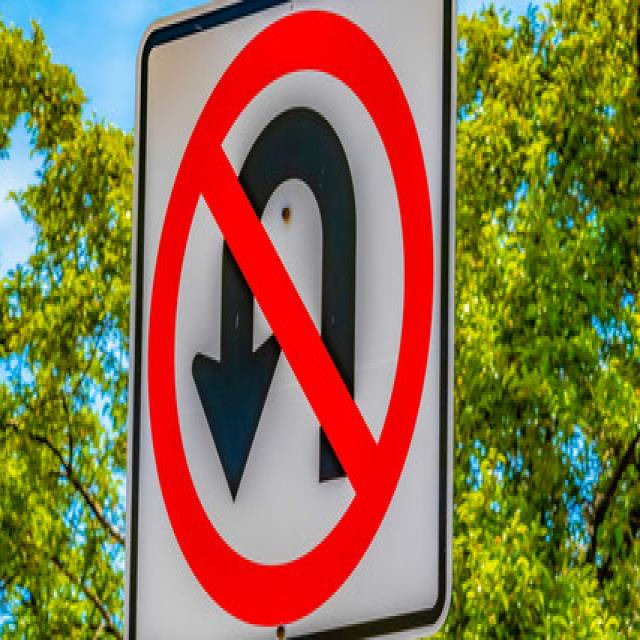no u turn: (148, 0, 432, 638)
